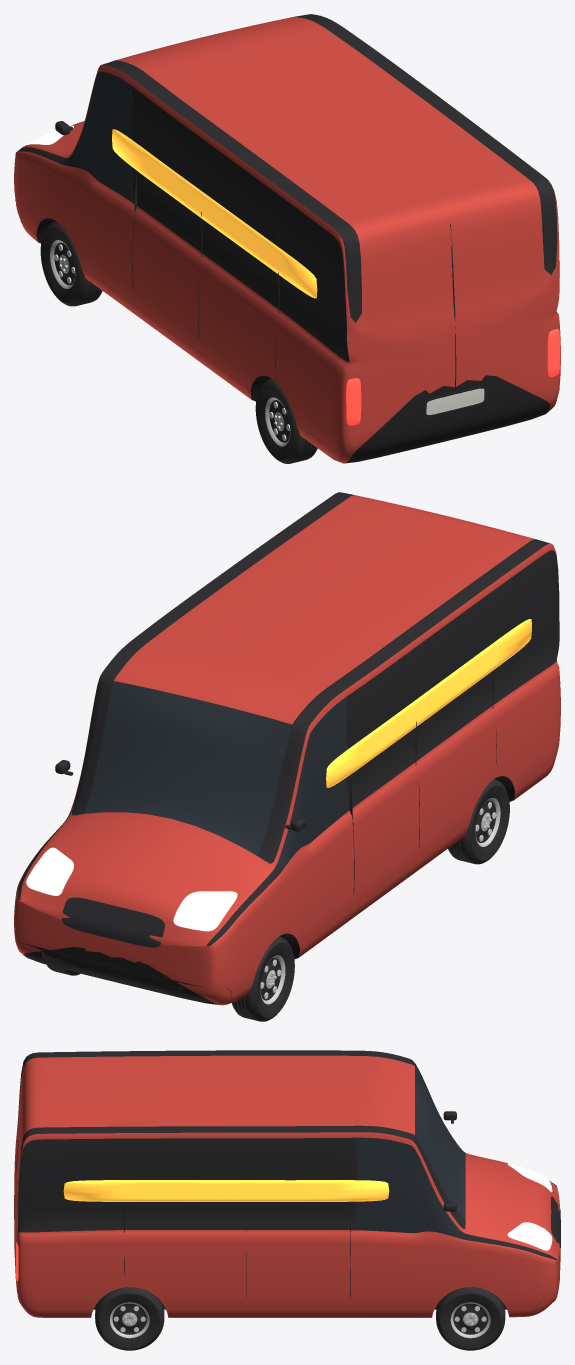
The model's file is TrafficVan.glb.
3 views of the same model, one above another, from view 1: azimuth 30°, elevation 25°; view 2: azimuth 150°, elevation 25°; view 3: azimuth 270°, elevation 25° (orthographic). The views are drawn at different scales.
Parts seen in each view (by area): view 1: TrafficVan_Body, TrafficVan_Lights_Indicator, TrafficVan_Glass, TrafficVan_Wheel_FL, TrafficVan_Wheel_RL, TrafficVan_Lights_Tail; view 2: TrafficVan_Body, TrafficVan_Glass, TrafficVan_Lights_Indicator, TrafficVan_Lights_Head, TrafficVan_Wheel_FL, TrafficVan_Wheel_RL; view 3: TrafficVan_Body, TrafficVan_Glass, TrafficVan_Lights_Indicator, TrafficVan_Wheel_FR, TrafficVan_Wheel_RR, TrafficVan_Lights_Head.
Boxes of the visible parts, x1=… form: TrafficVan_Body: x1=14, y1=14, x2=560, y2=463; TrafficVan_Lights_Indicator: x1=112, y1=129, x2=317, y2=298; TrafficVan_Glass: x1=67, y1=71, x2=133, y2=203; TrafficVan_Wheel_FL: x1=40, y1=221, x2=102, y2=306; TrafficVan_Wheel_RL: x1=255, y1=378, x2=317, y2=463; TrafficVan_Lights_Tail: x1=346, y1=328, x2=560, y2=425; TrafficVan_Body: x1=14, y1=492, x2=560, y2=1005; TrafficVan_Glass: x1=69, y1=681, x2=347, y2=870; TrafficVan_Lights_Indicator: x1=326, y1=619, x2=531, y2=787; TrafficVan_Lights_Head: x1=26, y1=847, x2=237, y2=931; TrafficVan_Wheel_FL: x1=232, y1=936, x2=294, y2=1021; TrafficVan_Wheel_RL: x1=448, y1=779, x2=509, y2=864; TrafficVan_Body: x1=14, y1=1050, x2=560, y2=1317; TrafficVan_Glass: x1=356, y1=1067, x2=465, y2=1238; TrafficVan_Lights_Indicator: x1=63, y1=1180, x2=389, y2=1201; TrafficVan_Wheel_FR: x1=436, y1=1287, x2=505, y2=1350; TrafficVan_Wheel_RR: x1=95, y1=1287, x2=164, y2=1350; TrafficVan_Lights_Head: x1=507, y1=1163, x2=552, y2=1250.
Size of the model in its own units: 2.2 by 2.4 by 5.38.
